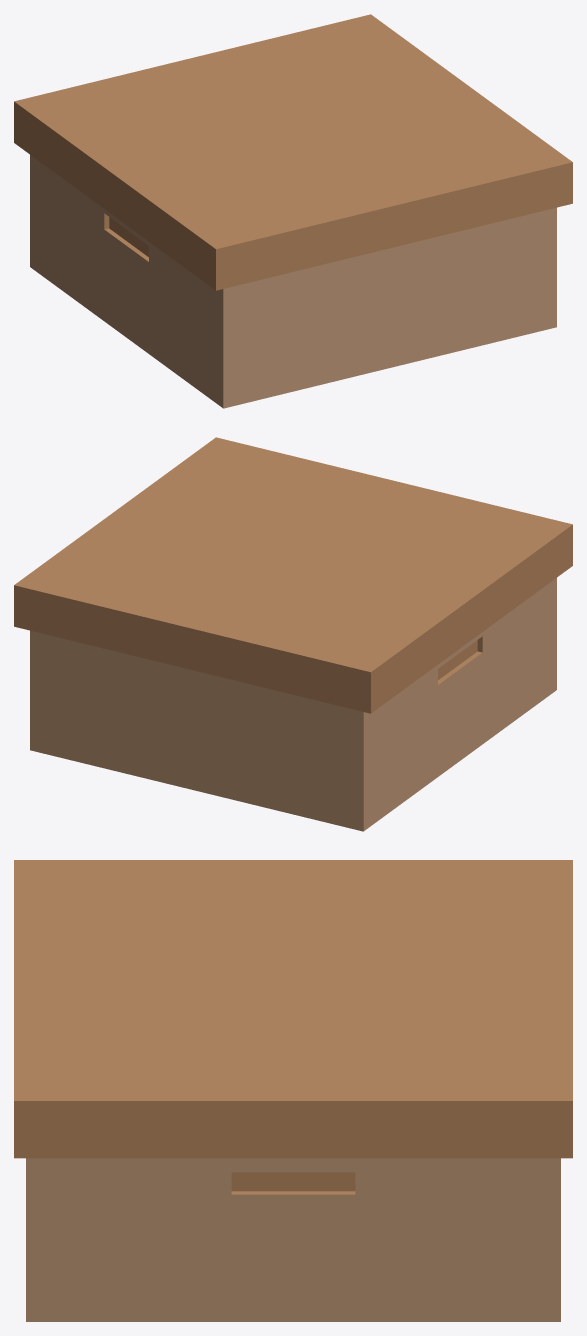
The model's file is SM_Props_Box_06.fbx.
3 renders of one model, top to bottom at view 1: azimuth 30°, elevation 25°; view 2: azimuth 150°, elevation 25°; view 3: azimuth 270°, elevation 25°, orthographic. The views are drawn at different scales.
Parts seen in each view (by area): view 1: SM_Props_Box_06; view 2: SM_Props_Box_06; view 3: SM_Props_Box_06.
Part boxes in pixels (x1,y1,x2,y2): SM_Props_Box_06: (14,14,572,408); SM_Props_Box_06: (14,437,572,831); SM_Props_Box_06: (14,860,572,1321).
Size of the model in its own units: 0.3605 by 0.1596 by 0.3535.
